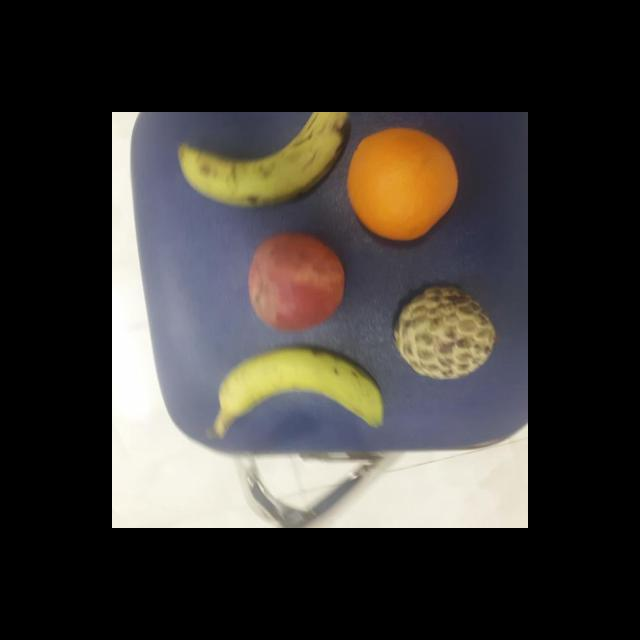Sakya fruit: (388, 281, 498, 383)
apple: (244, 232, 348, 334)
banana: (175, 112, 348, 212), (205, 348, 386, 440)
orange: (342, 125, 462, 242)
